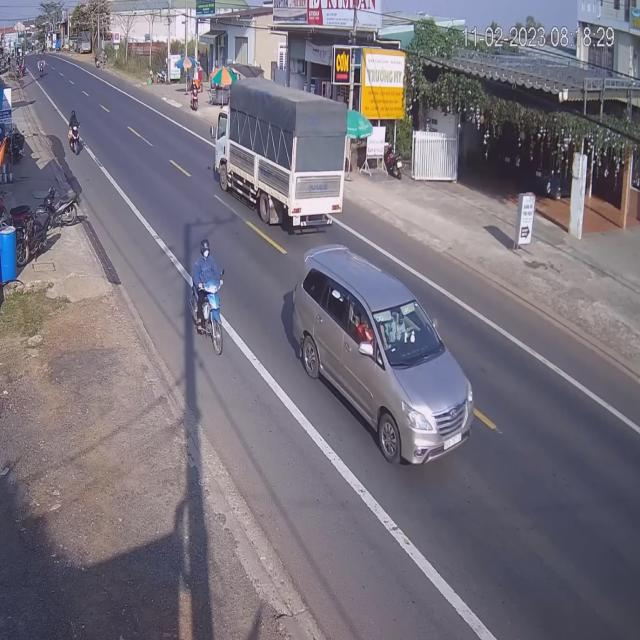car: (288, 248, 480, 475)
motorbike: (188, 236, 227, 358), (68, 111, 82, 155)
truck: (208, 73, 344, 231)
